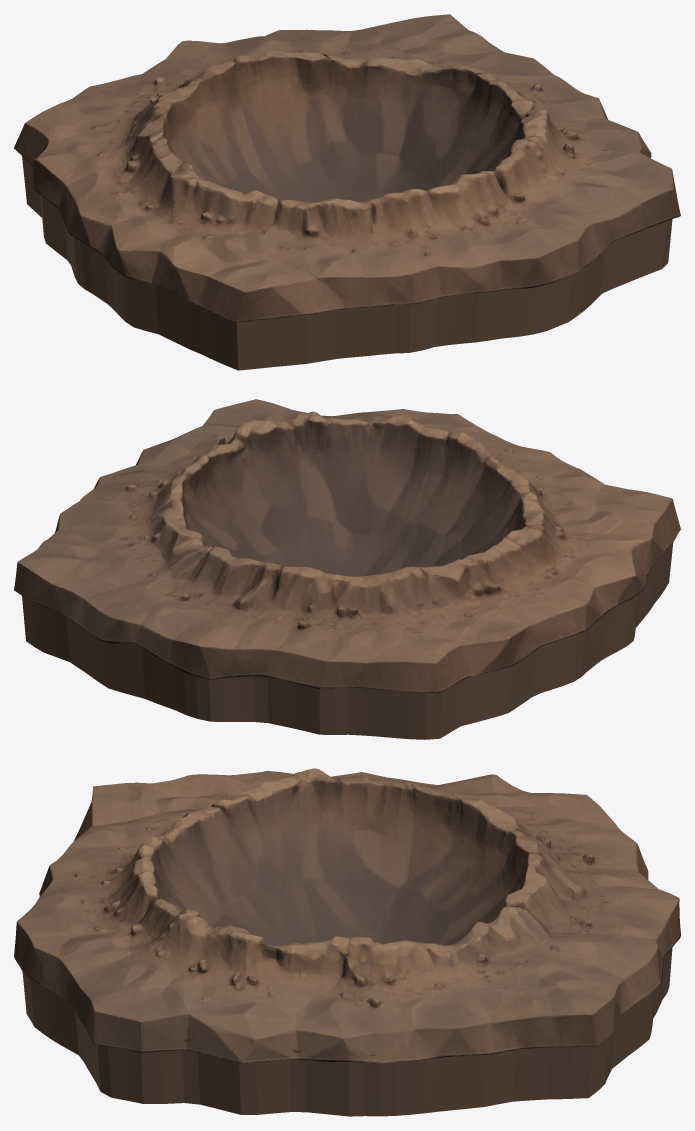
The picture shows the model from 3 angles, top to bottom: view 1: azimuth 30°, elevation 25°; view 2: azimuth 150°, elevation 25°; view 3: azimuth 270°, elevation 25°; orthographic projection. The views are drawn at different scales.
Parts seen in each view (by area): view 1: world; view 2: world; view 3: world.
Part boxes in pixels (x1,y1,x2,y2): world: (14, 14, 680, 370); world: (14, 399, 680, 739); world: (14, 768, 680, 1116).
Size of the model in its own units: 28.92 by 6.47 by 30.
Materials: 2 (1 with a texture image).
